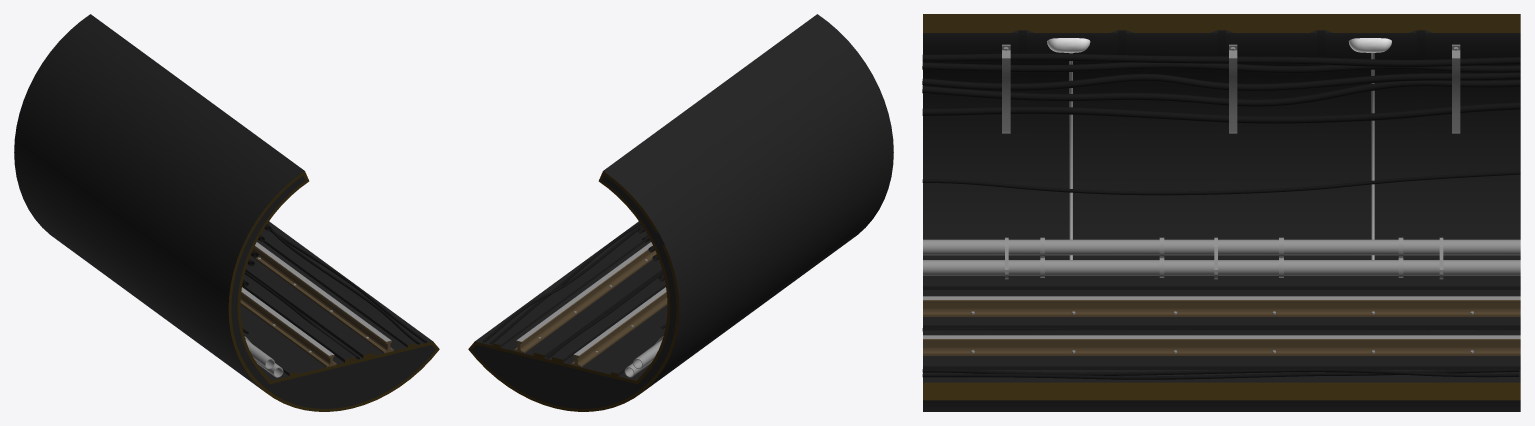
Rendered from Tunnel.fbx.
3 renders of one model, left to right at view 1: azimuth 30°, elevation 25°; view 2: azimuth 150°, elevation 25°; view 3: azimuth 270°, elevation 25°, orthographic. The views are drawn at different scales.
Parts seen in each view (by area): view 1: Tunnel, Rails, wires2, pipes, wires3; view 2: Tunnel, Rails, wires2, pipes, wires3; view 3: Tunnel, Rails, wires, pipes, wires2, wire3, wires3, wire holder1, wire holder 2, wire holder 3, lamp wires2, lamp wires (+2 smaller).
Boxes of the visible parts, x1=… form: Tunnel: x1=14, y1=14, x2=439, y2=411; Rails: x1=240, y1=242, x2=393, y2=367; wires2: x1=267, y1=224, x2=426, y2=344; pipes: x1=245, y1=339, x2=283, y2=377; wires3: x1=244, y1=271, x2=359, y2=359; Tunnel: x1=468, y1=14, x2=893, y2=411; Rails: x1=514, y1=242, x2=667, y2=367; wires2: x1=482, y1=222, x2=642, y2=344; pipes: x1=624, y1=339, x2=662, y2=377; wires3: x1=547, y1=271, x2=663, y2=358; Tunnel: x1=923, y1=14, x2=1520, y2=411; Rails: x1=923, y1=296, x2=1520, y2=355; wires: x1=922, y1=53, x2=1520, y2=123; pipes: x1=923, y1=237, x2=1520, y2=277; wires2: x1=922, y1=368, x2=1519, y2=379; wire3: x1=922, y1=171, x2=1520, y2=195; wires3: x1=922, y1=327, x2=1518, y2=331; wire holder1: x1=1002, y1=44, x2=1010, y2=133; wire holder 2: x1=1229, y1=44, x2=1237, y2=133; wire holder 3: x1=1452, y1=44, x2=1460, y2=133; lamp wires2: x1=1371, y1=53, x2=1374, y2=259; lamp wires: x1=1069, y1=53, x2=1072, y2=259.
Size of the model in its own units: 171 by 192 by 301.
